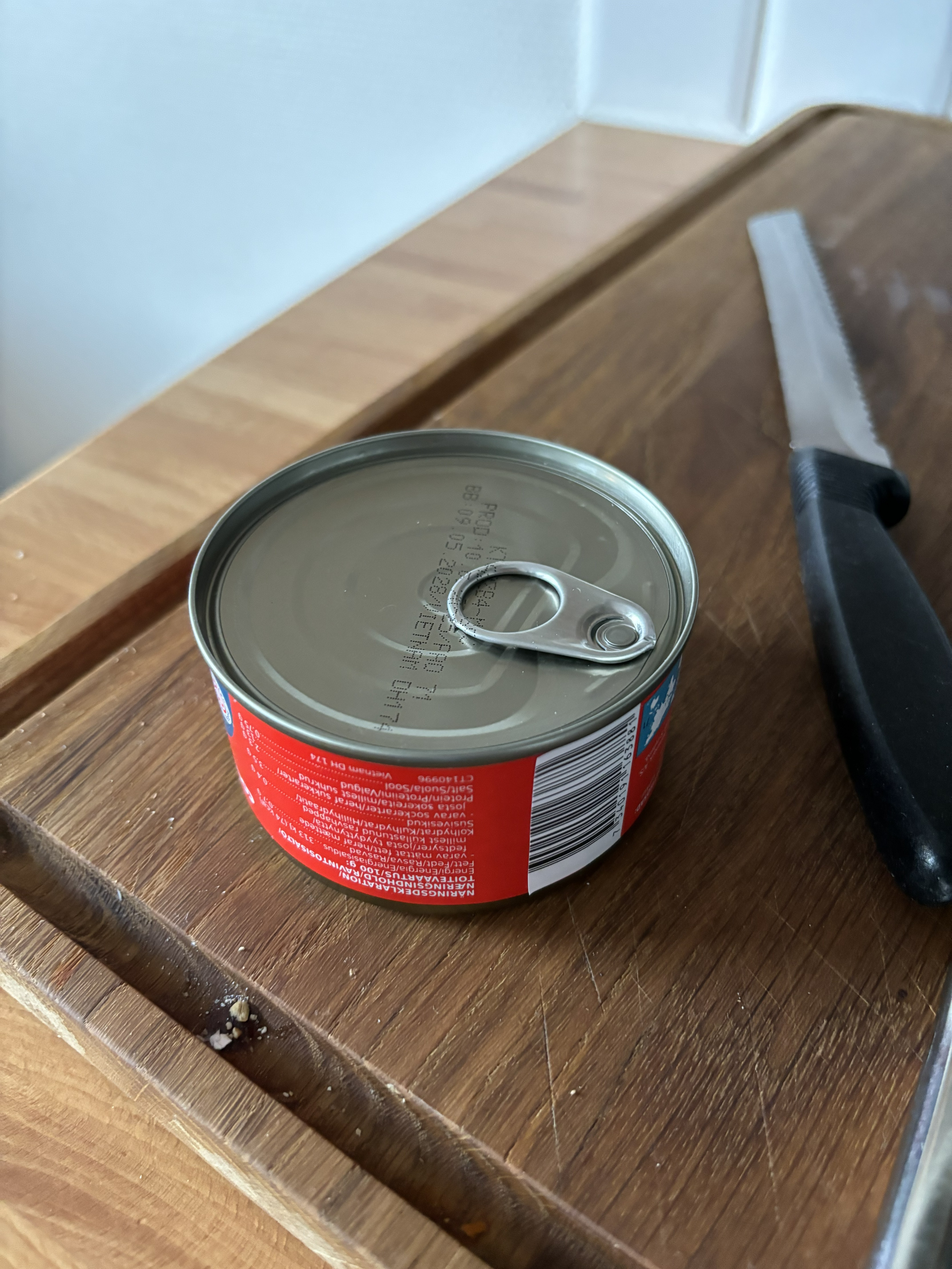Konservburk: (172, 428, 705, 908)
